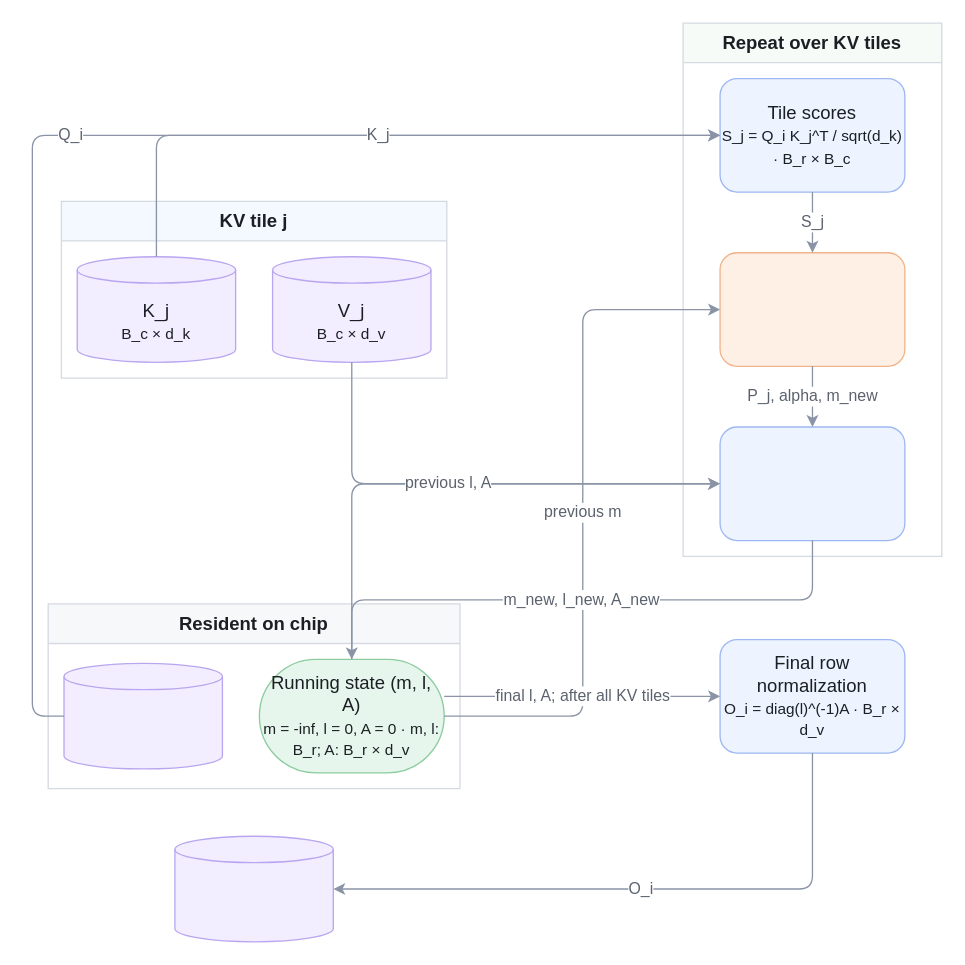
Image size: 965x965. Some labels were removed from this diagram. The box of each missing label's shape, as (x1, y1, x2, y2) in pixels:
O_i B_r × d_v: (174, 835, 333, 942)
Online row normalization: (719, 251, 905, 366)
Q_i B_r × d_k: (63, 662, 222, 769)
Update accumulators l_new: B_r; A_new: B_r × d_v: (719, 426, 905, 541)
